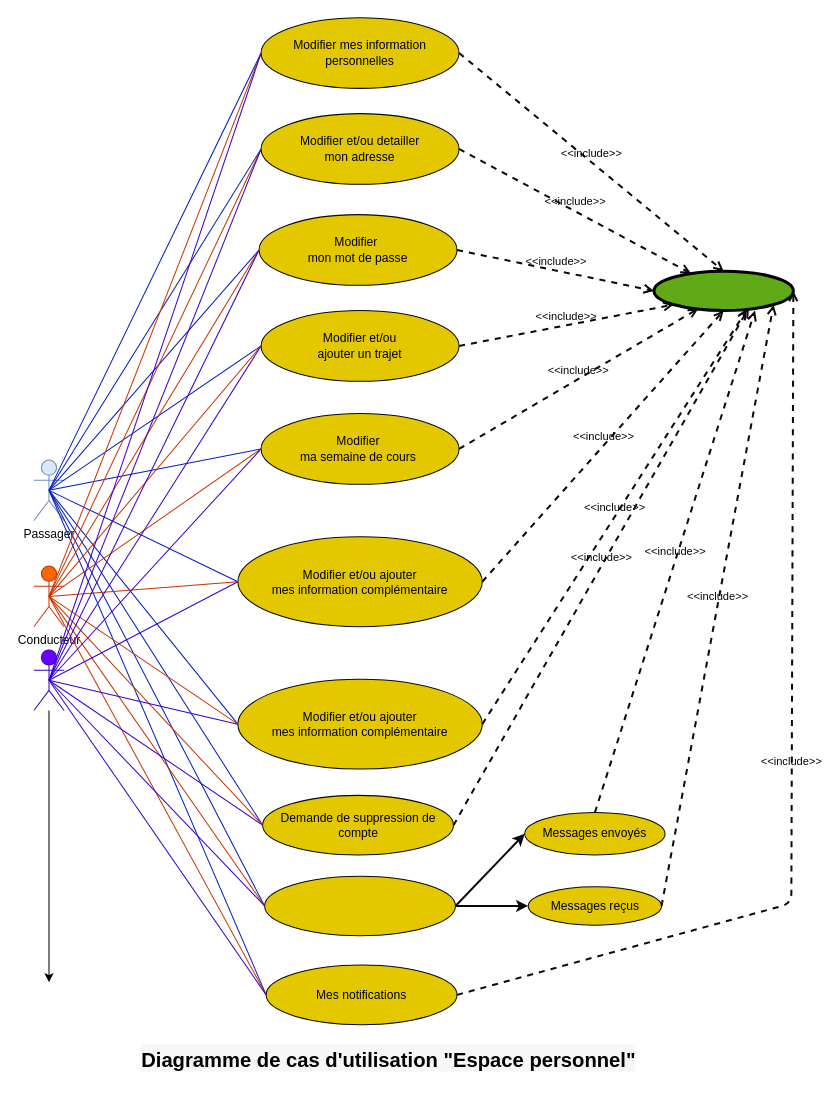
Image size: 839x1100. Some labels were removed from this diagram. Each missing label, with the box of its shape:
Conducteur Passager: (33, 649, 64, 711)
Mes messages: (264, 875, 456, 936)
S'identifier: (652, 269, 794, 312)
